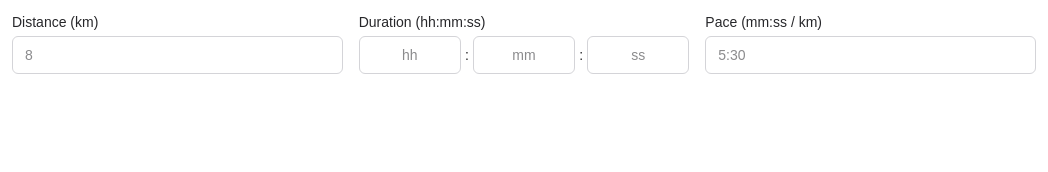
Test: supports hours and seconds while collecting the first duration
Type "01" into the field named "Duration (hh:mm:ss) hours" at (410, 55), box x1=359 y1=36 x2=461 y2=74
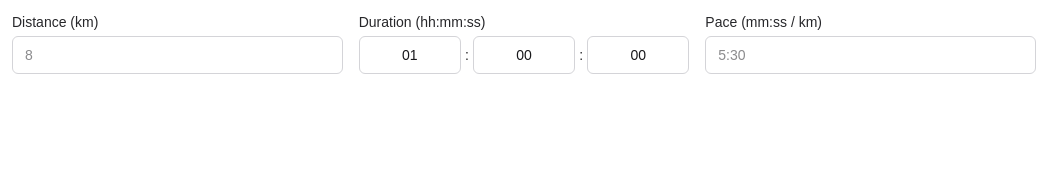
Replace the text in the field named "Duration (hh:mm:ss) seconds" with "30" at (638, 55), box x1=587 y1=36 x2=689 y2=74
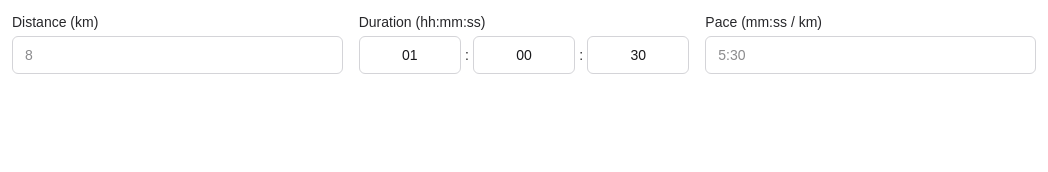
Type "10" into the field labelled "Distance (km)" at (177, 55), box x1=12 y1=36 x2=343 y2=74
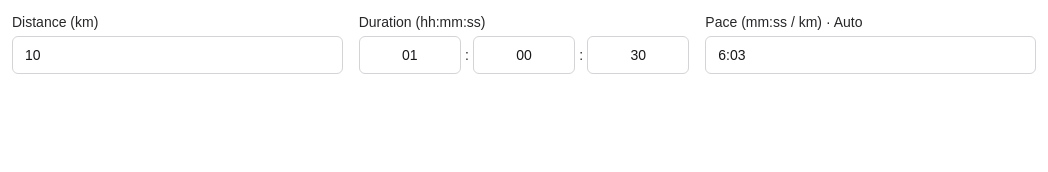
Check: the field labelled "Pace (mm:ss / km) · Auto" holds "6:03", box x1=705 y1=36 x2=1036 y2=74
